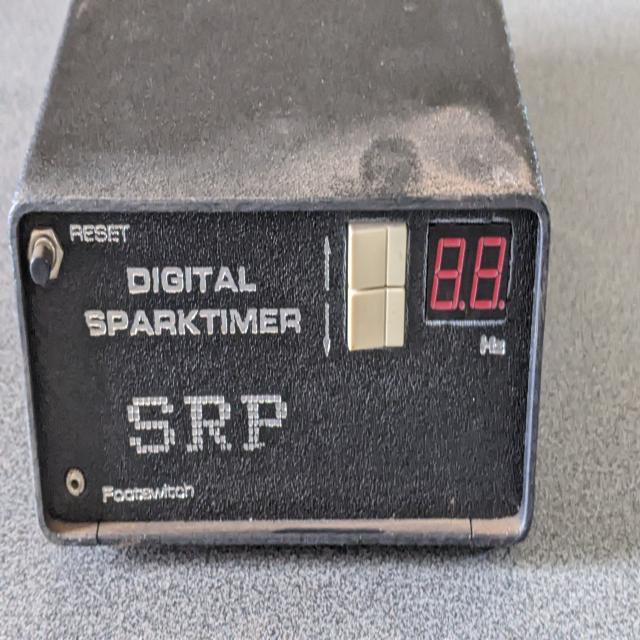SRP Digital Spark Timer: (9, 134, 559, 575)
